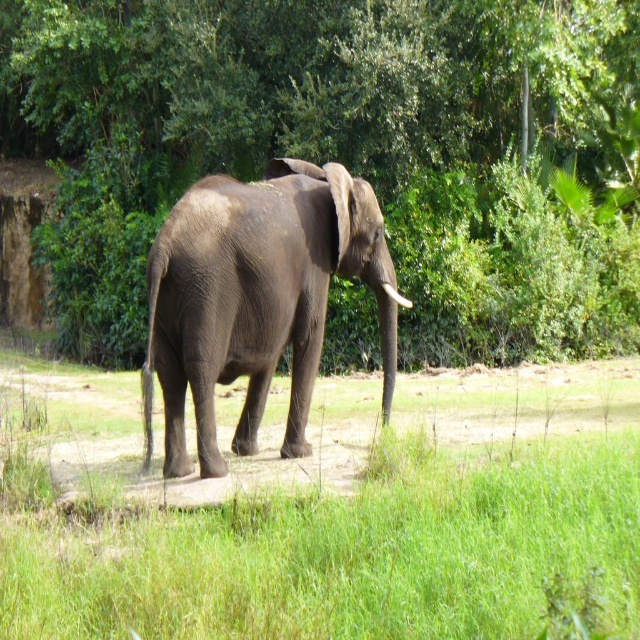Elephant: (142, 153, 411, 475)
